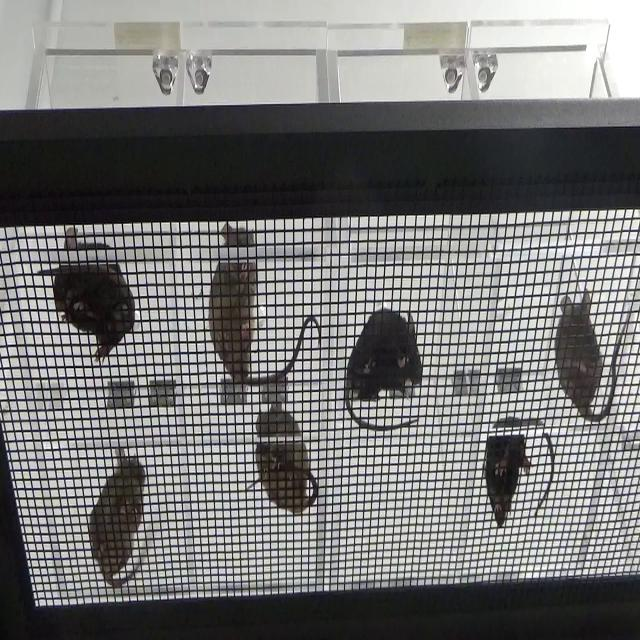scratch: (550, 284, 636, 438)
